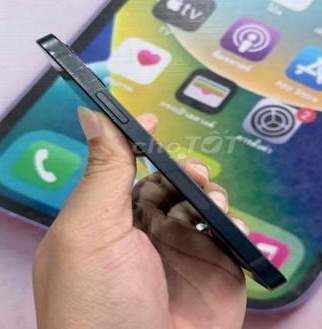scratch: (43, 40, 111, 107)
